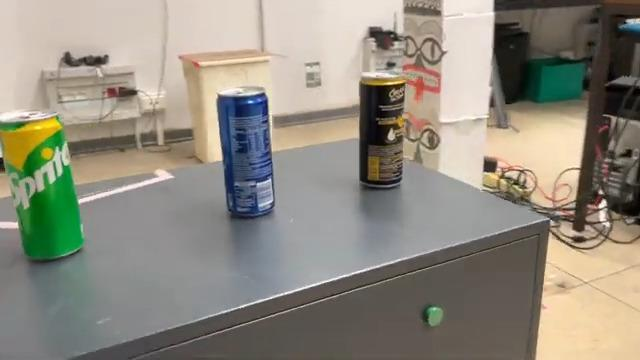Pepsi: (213, 82, 280, 222), (354, 70, 408, 192)
Sprite: (0, 106, 90, 266)
